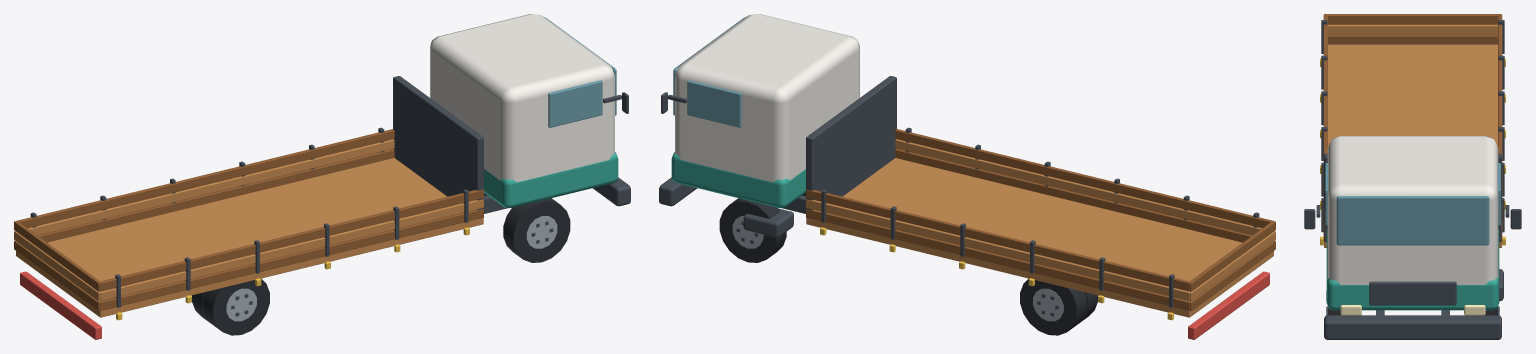
Rendered from caminhao_carroceria.glb.
3 views of the same model, side by side, from view 1: azimuth 30°, elevation 25°; view 2: azimuth 150°, elevation 25°; view 3: azimuth 270°, elevation 25° (orthographic). The views are drawn at different scales.
Visible parts, largest first — view 1: tabua_lateral (×6), assoalho, corpo, protetor_cabine, pneu (×2), faixa_cabine, tabua_traseira (×3), vidro_porta, aro (×2), para_choque_traseiro, para_choque; view 2: tabua_lateral (×6), assoalho, corpo, protetor_cabine, pneu (×2), faixa_cabine, tabua_traseira (×3), vidro_porta, para_choque_traseiro, aro (×2), tanque, para_choque; view 3: corpo, assoalho, para_brisa, tabua_traseira (×3), para_choque, faixa_cabine, grade, tabua_lateral (×2), retrovisor (×2), farol (×2), vidro_porta (×2), protetor_cabine.
Part boxes in pixels (left/top/right/bottom): tabua_lateral (×6): left=16, top=129, right=483, bottom=310; assoalho: left=16, top=158, right=483, bottom=317; corpo: left=430, top=14, right=614, bottom=182; protetor_cabine: left=393, top=76, right=483, bottom=218; pneu (×2): left=203, top=198, right=570, bottom=335; faixa_cabine: left=484, top=152, right=618, bottom=207; tabua_traseira (×3): left=14, top=221, right=100, bottom=311; vidro_porta: left=548, top=80, right=602, bottom=127; aro (×2): left=226, top=216, right=557, bottom=321; para_choque_traseiro: left=20, top=271, right=101, bottom=339; para_choque: left=592, top=177, right=630, bottom=206; tabua_lateral (×6): left=806, top=129, right=1273, bottom=310; assoalho: left=806, top=158, right=1273, bottom=317; corpo: left=675, top=14, right=859, bottom=182; protetor_cabine: left=806, top=76, right=896, bottom=218; pneu (×2): left=719, top=198, right=1086, bottom=335; faixa_cabine: left=671, top=152, right=805, bottom=207; tabua_traseira (×3): left=1189, top=221, right=1275, bottom=311; vidro_porta: left=687, top=80, right=741, bottom=127; para_choque_traseiro: left=1188, top=271, right=1269, bottom=339; aro (×2): left=732, top=216, right=1063, bottom=321; tanque: left=743, top=208, right=793, bottom=237; para_choque: left=659, top=177, right=697, bottom=206; corpo: left=1327, top=136, right=1498, bottom=284; assoalho: left=1324, top=44, right=1501, bottom=247; para_brisa: left=1336, top=196, right=1489, bottom=245; tabua_traseira (×3): left=1324, top=14, right=1501, bottom=44; para_choque: left=1324, top=315, right=1501, bottom=339; faixa_cabine: left=1326, top=230, right=1499, bottom=310; grade: left=1369, top=281, right=1456, bottom=305; tabua_lateral (×2): left=1323, top=15, right=1502, bottom=219; retrovisor (×2): left=1304, top=209, right=1521, bottom=229; farol (×2): left=1340, top=305, right=1485, bottom=315; vidro_porta (×2): left=1325, top=163, right=1500, bottom=225; protetor_cabine: left=1324, top=153, right=1501, bottom=241.
Size of the model in its own units: 8.9 by 2.82 by 2.99.
